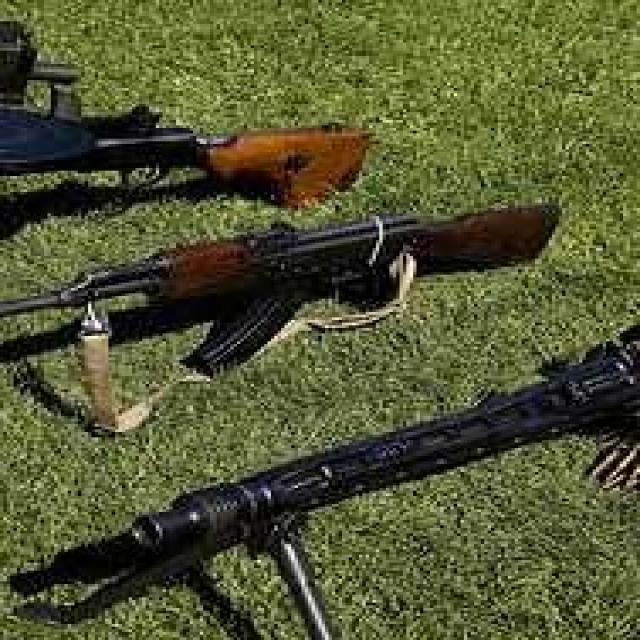Rifle: (0, 174, 566, 358)
